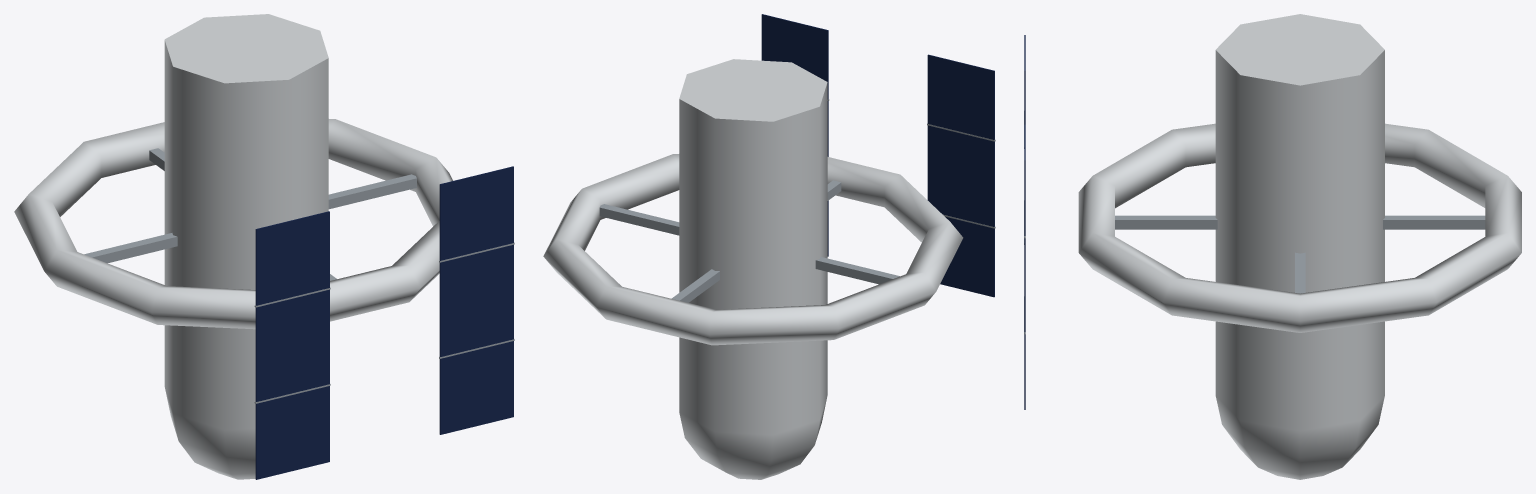
Rendered from space_orbital_station_t2_lod1.glb.
The picture shows the model from 3 angles, left to right: view 1: azimuth 30°, elevation 25°; view 2: azimuth 150°, elevation 25°; view 3: azimuth 270°, elevation 25°; orthographic projection. The views are drawn at different scales.
Visible parts, largest first — view 1: body, ring, solar_1, solar_0, solar_3, solar_2; view 2: body, ring, solar_3, solar_1, solar_2; view 3: body, ring.
Boxes of the visible parts, box(x1,y1,x2,y2) form: body: box(164, 14, 328, 479); ring: box(14, 119, 452, 329); solar_1: box(254, 308, 330, 479); solar_0: box(439, 263, 514, 434); solar_3: box(254, 211, 330, 383); solar_2: box(439, 166, 514, 338); body: box(679, 59, 827, 479); ring: box(543, 154, 963, 345); solar_3: box(927, 54, 995, 210); solar_1: box(927, 142, 995, 297); solar_2: box(761, 14, 829, 155); body: box(1215, 14, 1384, 479); ring: box(1078, 123, 1521, 332).
Size of the model in its own units: 22 by 22 by 23.5.
